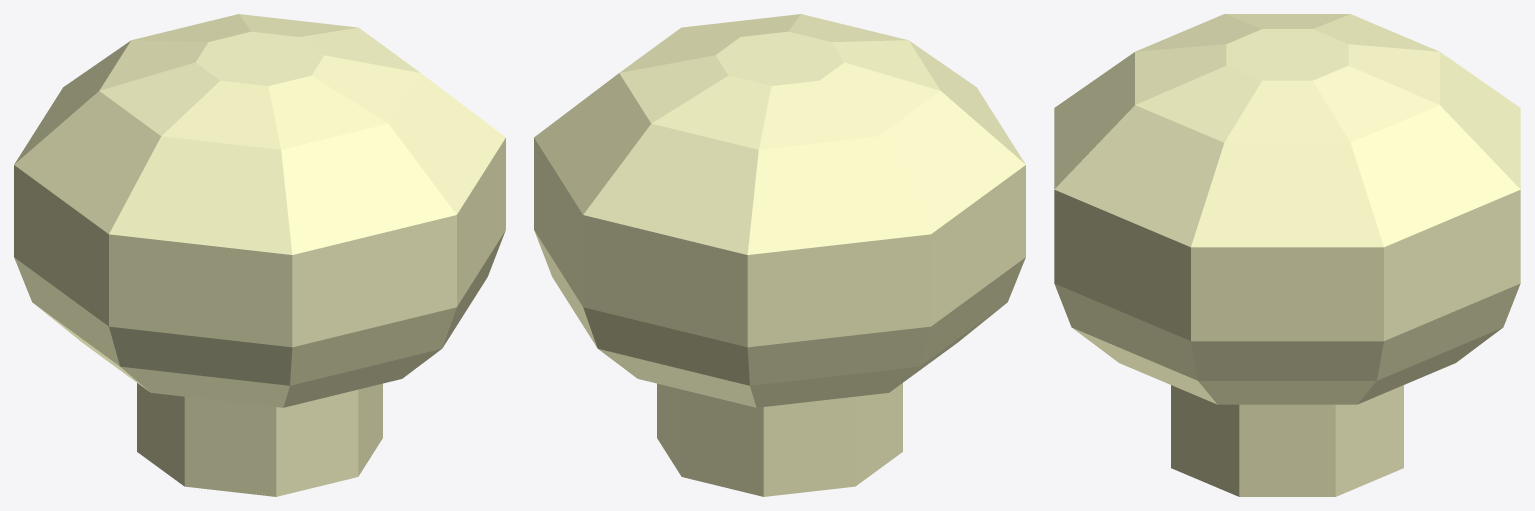
Rendered from Cave_Lair_Vegetation_Swamp_Mushroom_Button_01.fbx.
The picture shows the model from 3 angles, left to right: view 1: azimuth 30°, elevation 25°; view 2: azimuth 150°, elevation 25°; view 3: azimuth 270°, elevation 25°; orthographic projection.
Visible parts, largest first — view 1: Cave_Lair_Vegetation_Swamp_Mushroom_Button_01; view 2: Cave_Lair_Vegetation_Swamp_Mushroom_Button_01; view 3: Cave_Lair_Vegetation_Swamp_Mushroom_Button_01.
Boxes of the visible parts, x1,y1,x2,y2 form: Cave_Lair_Vegetation_Swamp_Mushroom_Button_01: [14, 14, 505, 496]; Cave_Lair_Vegetation_Swamp_Mushroom_Button_01: [534, 14, 1025, 496]; Cave_Lair_Vegetation_Swamp_Mushroom_Button_01: [1054, 14, 1520, 496].
Bounding box in the file's own units: 0.1406 × 0.1306 × 0.1406.
